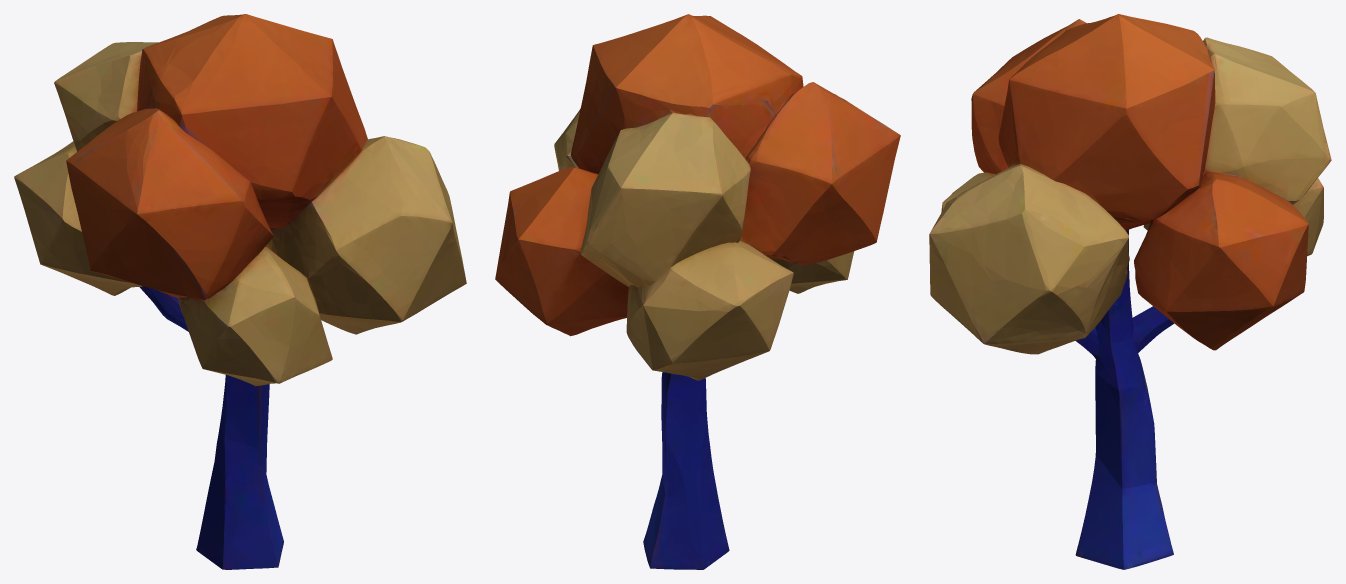
The model's file is prop_tree.glb.
The picture shows the model from 3 angles, left to right: view 1: azimuth 30°, elevation 25°; view 2: azimuth 150°, elevation 25°; view 3: azimuth 270°, elevation 25°; orthographic projection.
Parts seen in each view (by area): view 1: groundshift; view 2: groundshift; view 3: groundshift.
Boxes of the visible parts, box(x1,y1,x2,y2) form: groundshift: box(14, 14, 466, 569); groundshift: box(495, 14, 900, 569); groundshift: box(929, 14, 1331, 569).
Size of the model in its own units: 3.96 by 6 by 4.08.
1 material, 1 textured.
